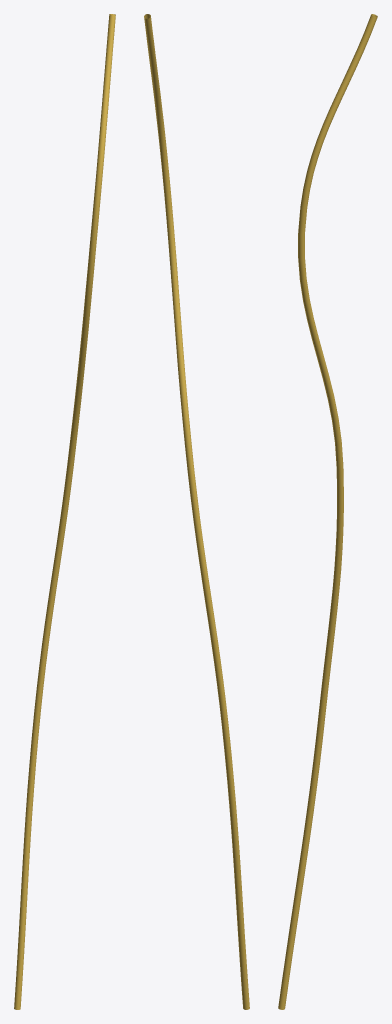
Rendered from Posterior_branch_obturator_nerve_right.glb.
3 views of the same model, side by side, from view 1: azimuth 30°, elevation 25°; view 2: azimuth 210°, elevation 25°; view 3: azimuth 330°, elevation 25° (orthographic). The views are drawn at different scales.
Visible parts, largest first — view 1: Posterior_branch_of_obturator_nerve.r_BezierCurve.489; view 2: Posterior_branch_of_obturator_nerve.r_BezierCurve.489; view 3: Posterior_branch_of_obturator_nerve.r_BezierCurve.489.
Part boxes in pixels (x1,y1,x2,y2): Posterior_branch_of_obturator_nerve.r_BezierCurve.489: [14, 14, 115, 1009]; Posterior_branch_of_obturator_nerve.r_BezierCurve.489: [144, 14, 249, 1009]; Posterior_branch_of_obturator_nerve.r_BezierCurve.489: [278, 14, 377, 1009].
Bounding box in the file's own units: 0.0166 × 0.159 × 0.0121.
